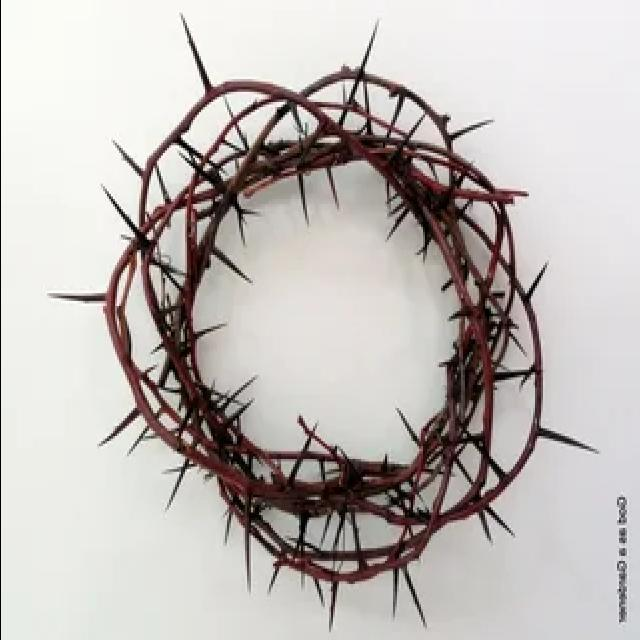crown: (95, 64, 560, 620)
